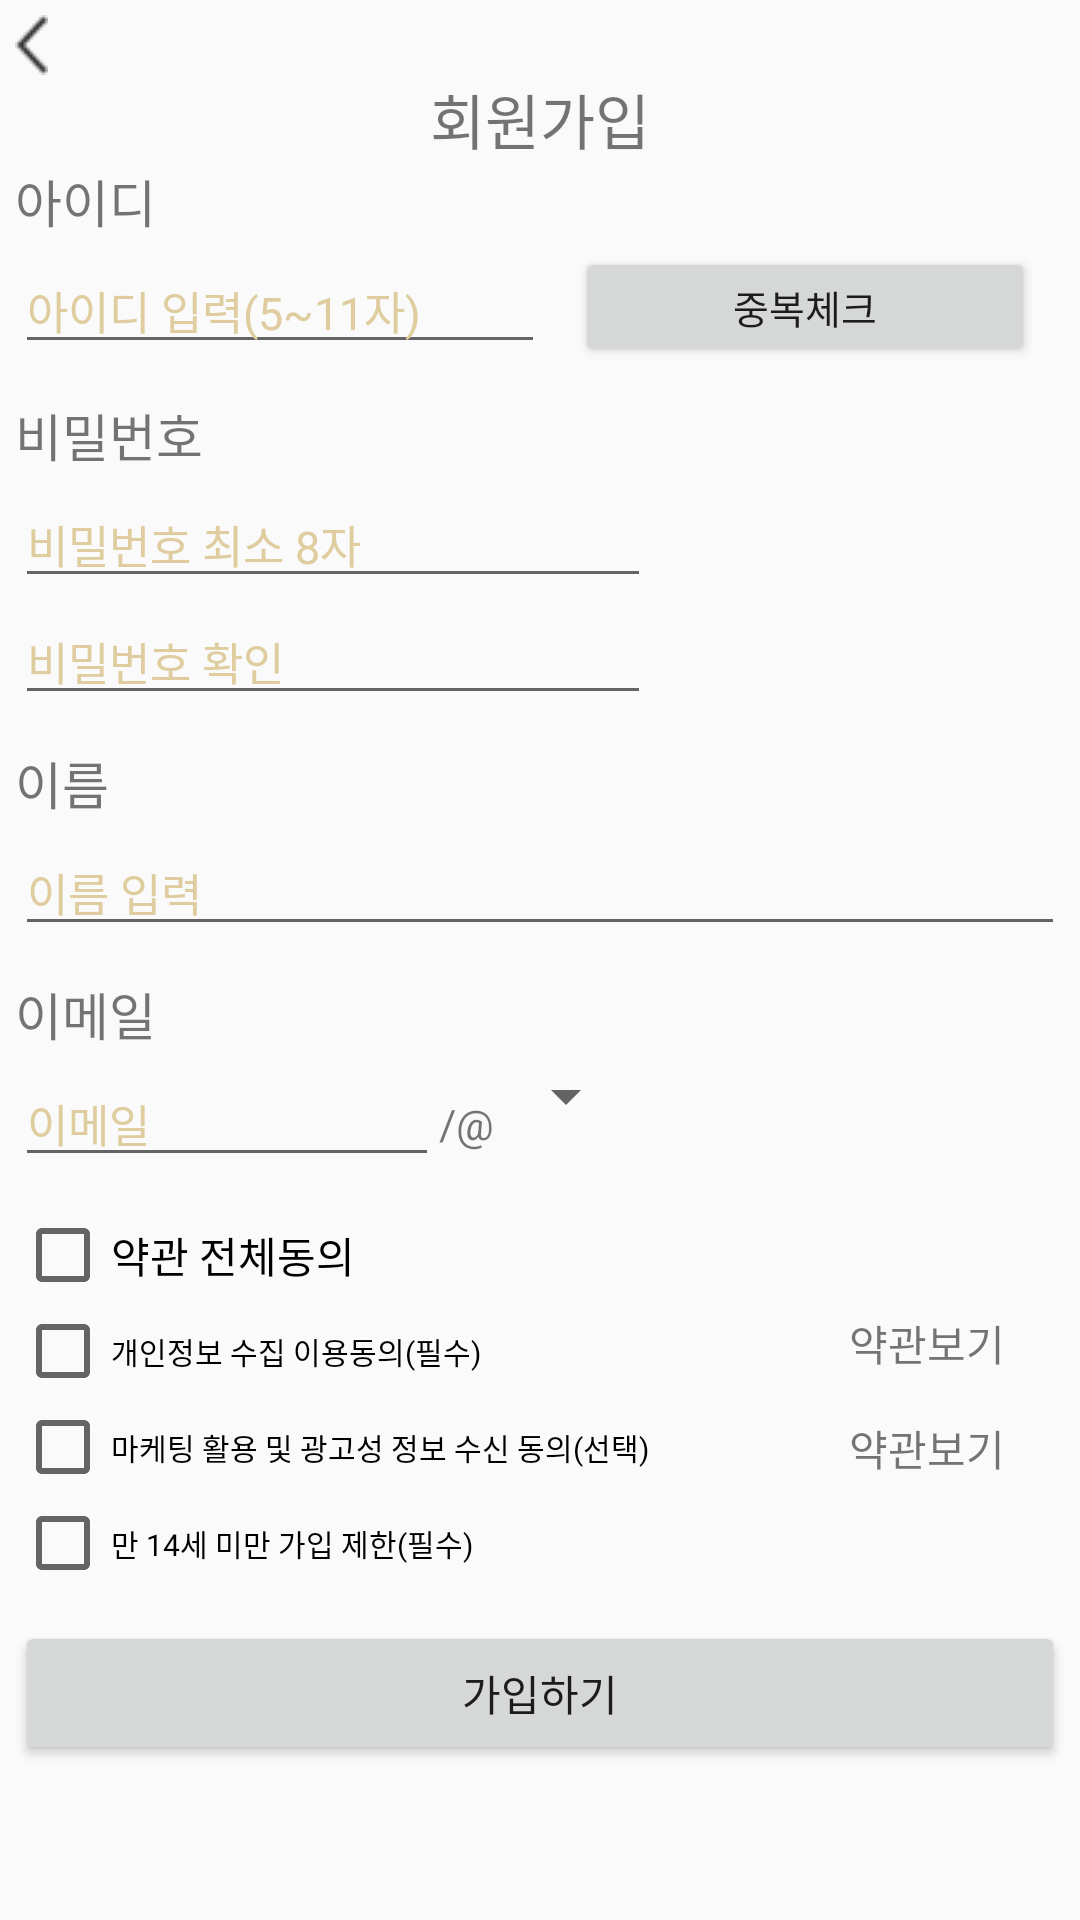

Locate icon controls on the screen. Image size 1080*1920, boxes as bbox=(x1, y1, x2, y2).
pre: bbox=(15, 15, 48, 75)
